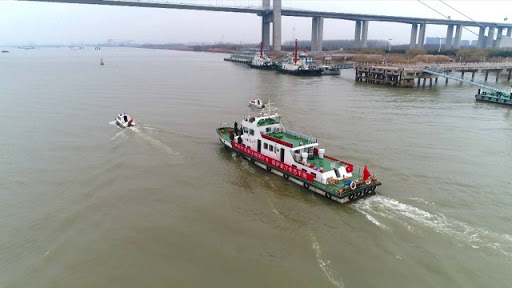boat: (209, 96, 386, 210), (108, 105, 139, 130)
